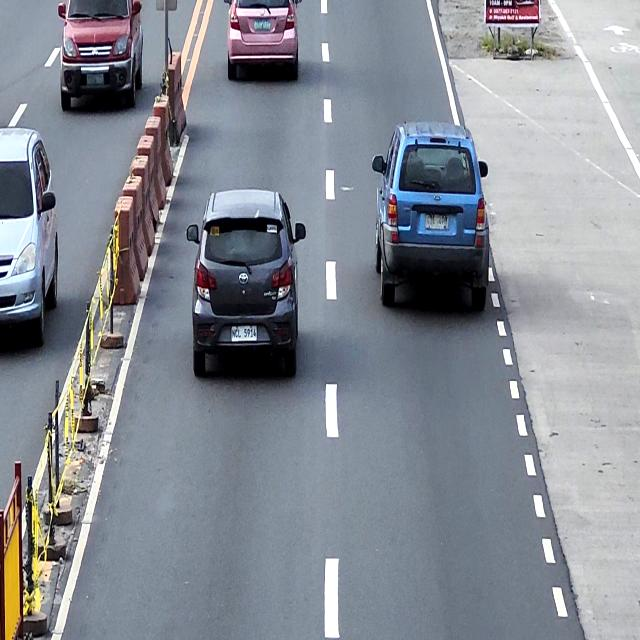Car: (186, 189, 306, 378), (372, 119, 489, 312), (0, 125, 59, 348), (57, 0, 143, 110), (226, 0, 302, 81)
License-Plate: (232, 325, 257, 341), (426, 214, 449, 230), (255, 17, 271, 32), (86, 73, 104, 85)
